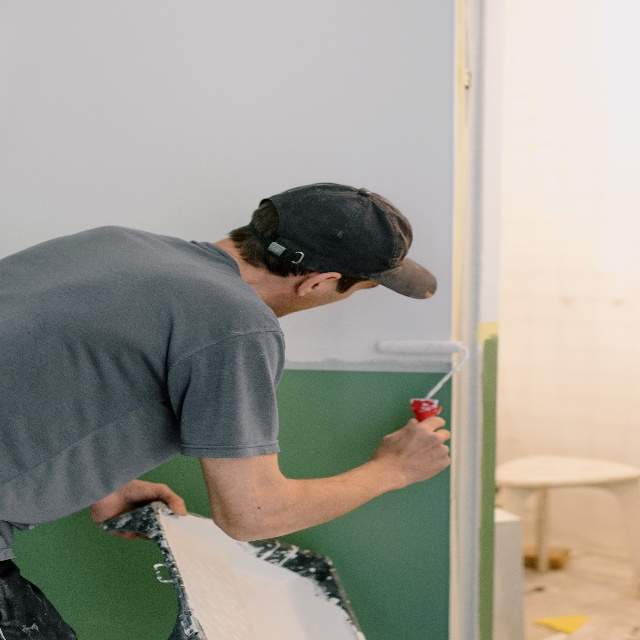Sin_guantes: (90, 471, 187, 544), (372, 412, 453, 487)
